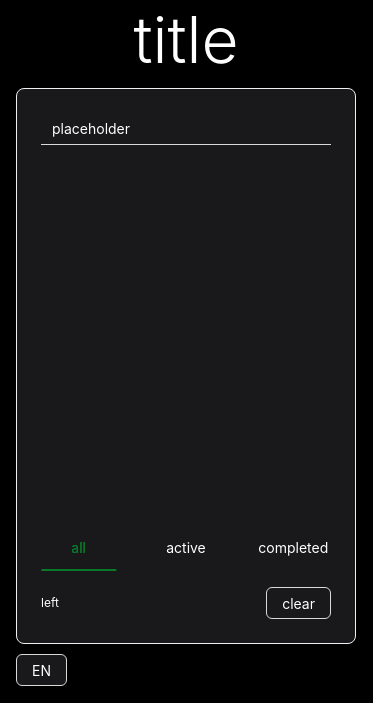
App › filters tasks by All / Active / Completed
The image size is (373, 703).
Type "Task 1" into the field with test id "new-task-input" at coordinates (186, 130), box [41,114,331,146]
Then press Enter
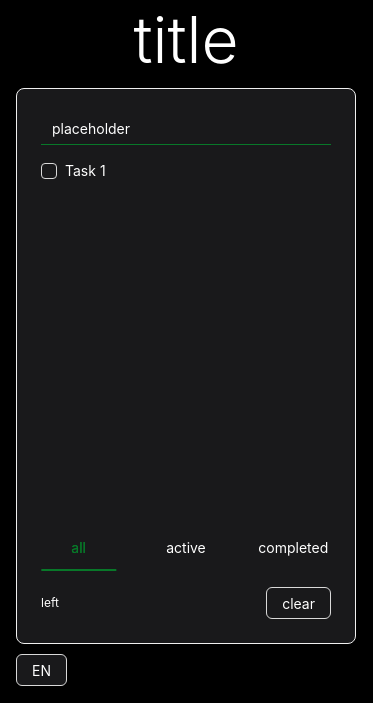
Type "Task 2" into the field with test id "new-task-input" at coordinates (186, 130), box [41,114,331,146]
Then press Enter
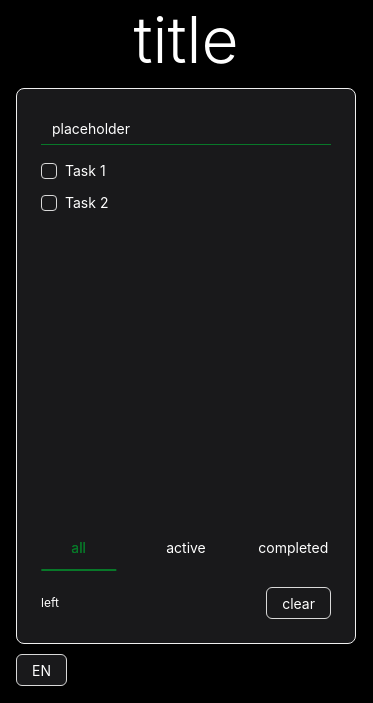
Click the checkbox labelled "Task 1" at coordinates (73, 171), box [41,162,106,180]
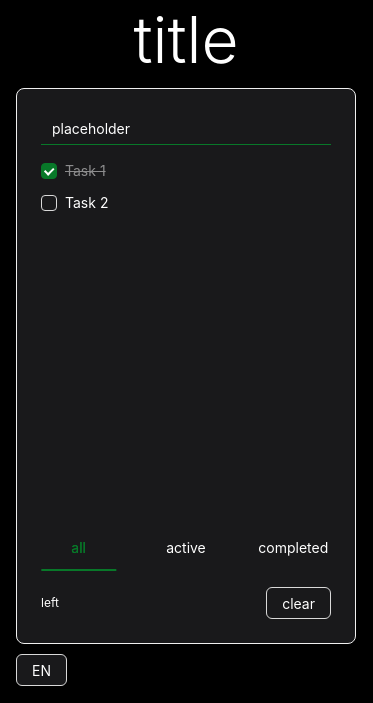
фильтр на Active (активные)
Click the tab "active" at coordinates (186, 548), box [166,538,206,560]
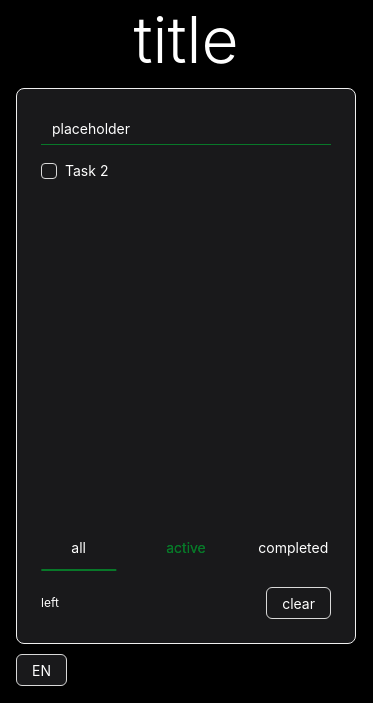
Check: the text "Task 2" is shown, box [65,162,108,180]
Check: the text "Task 1" is gone
фильтр на Completed (выполненные)
Click the tab "completed" at coordinates (293, 548), box [258,538,328,560]
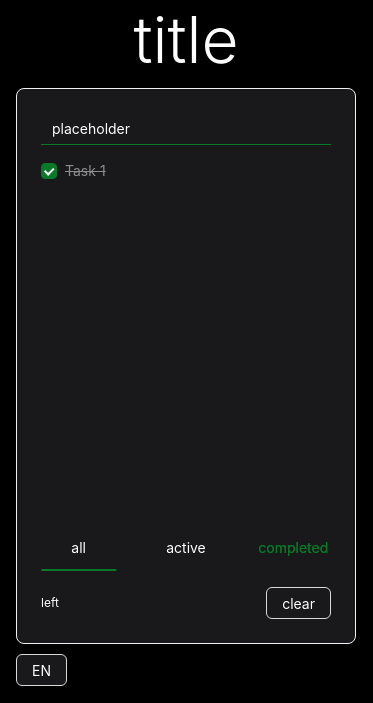
Check: the text "Task 1" is shown, box [65,162,106,180]
Check: the text "Task 2" is gone
на All (все)
Click the tab "all" at coordinates (79, 548), box [71,538,86,560]
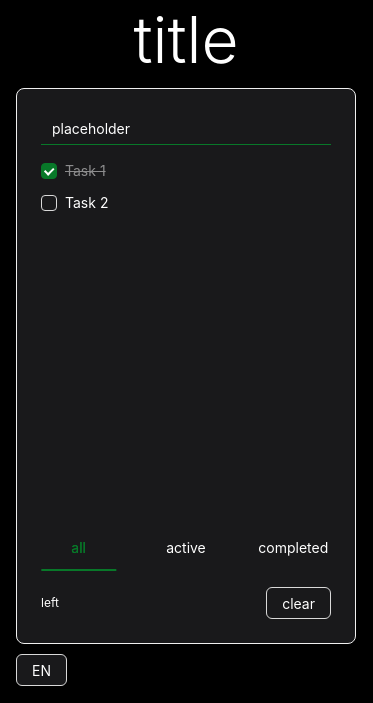
Check: the text "Task 1" is shown, box [65,162,106,180]
Check: the text "Task 2" is shown, box [65,194,108,212]
